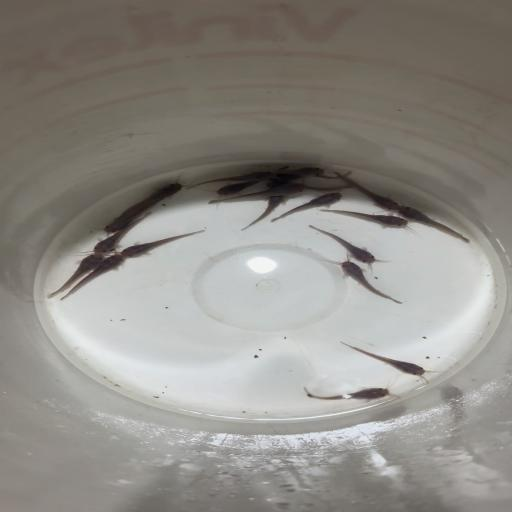lele: (337, 340, 440, 379), (306, 224, 386, 269), (29, 252, 103, 300), (330, 260, 404, 304), (62, 253, 129, 301), (336, 168, 409, 210), (396, 204, 473, 243), (121, 229, 208, 261), (292, 380, 401, 405), (316, 206, 419, 232), (268, 192, 344, 226), (93, 212, 155, 253), (208, 184, 305, 207), (186, 168, 272, 190), (244, 196, 290, 235), (92, 207, 155, 234), (152, 177, 192, 206), (269, 181, 357, 191), (214, 181, 262, 199), (274, 172, 358, 182), (267, 164, 333, 176)
